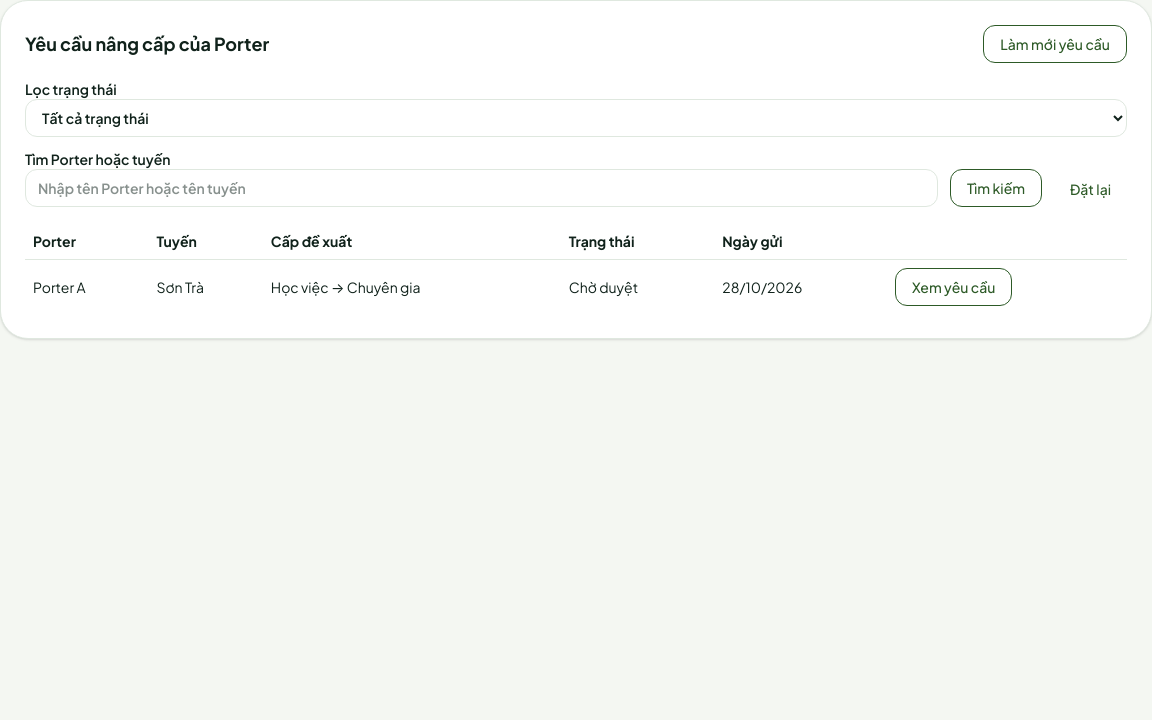
Test: Porter upgrade request UI › Admin needs-info request can only be rejected until Porter resubmits
Click the button "Xem yêu cầu".
click(954, 287)  # box [895,268,1012,306]
(page scrolled)
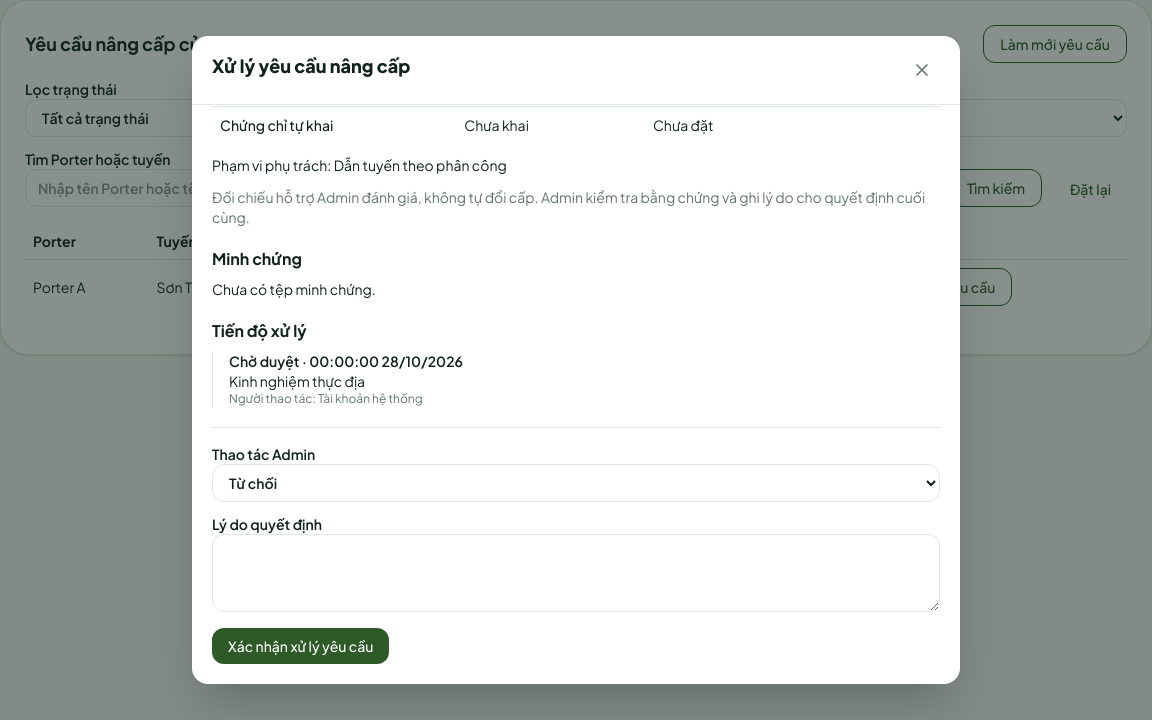
Click the button "Xác nhận xử lý yêu cầu".
click(301, 646)  # box [212,628,390,664]
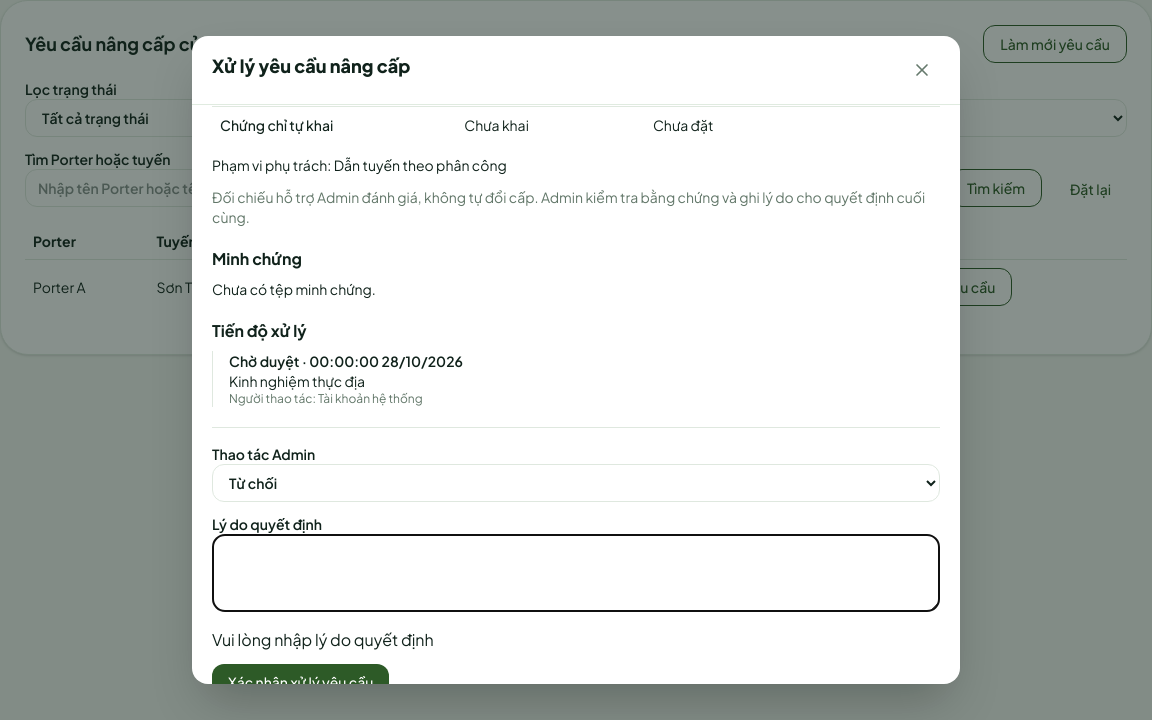
Now the message shows "Vui lòng nhập lý do", box [212,629,434,650]
